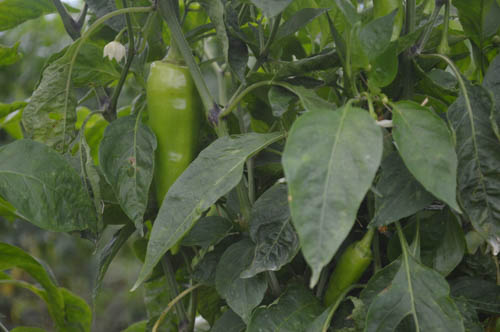ChiliPepper: (146, 63, 198, 200), (317, 245, 367, 293)
